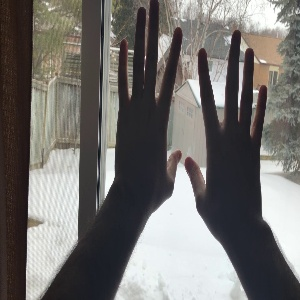hand: (184, 31, 268, 220), (118, 1, 181, 203)
